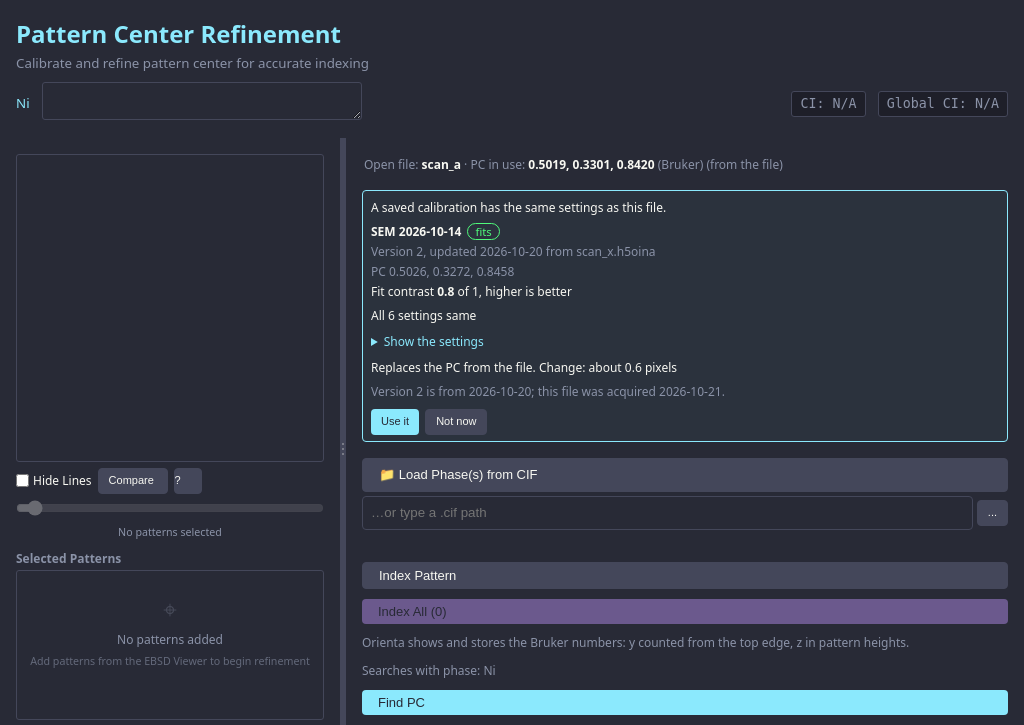
Test: the offer on load › A: "Put it back" after the use asks, puts the previous PC back and the page follows
The width and height of the screenshot is (1024, 725).
Click the button "Use it" at (395, 422), box [371,409,419,435]
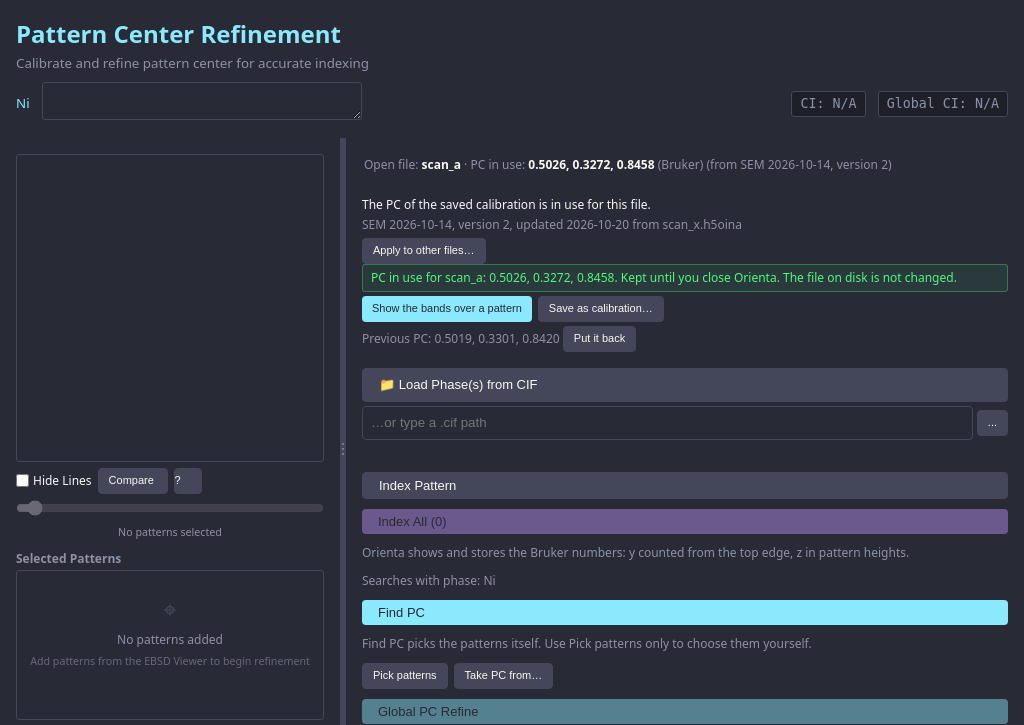
Click the button "Put it back" at (600, 339), box [563,326,636,352]
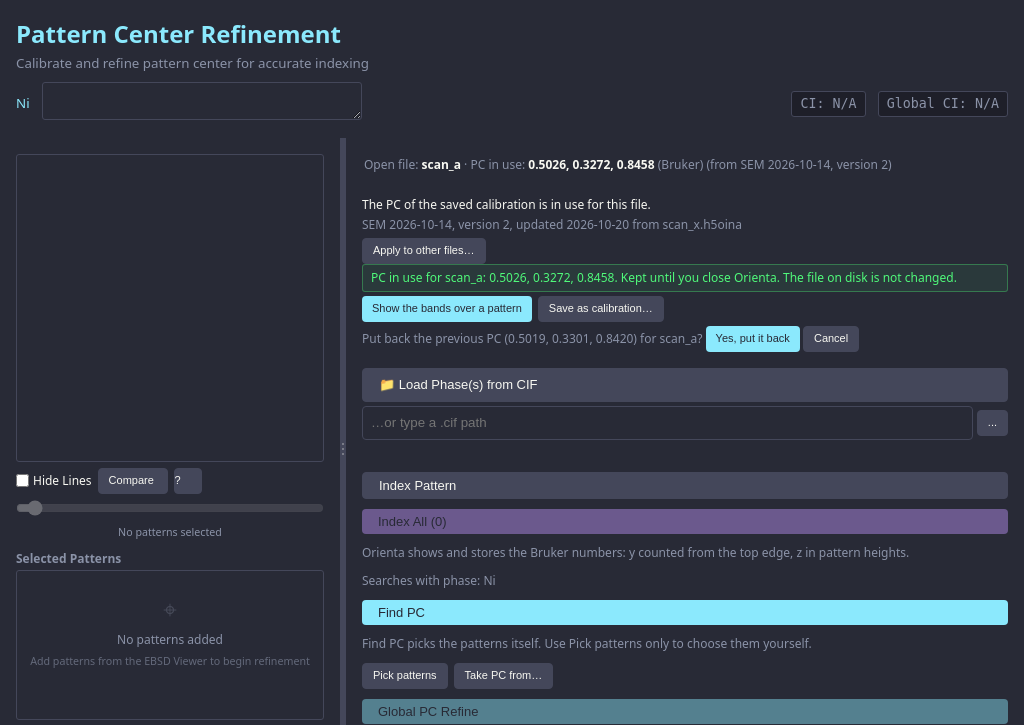
Click the button "Yes, put it back" at (753, 339), box [706,326,800,352]
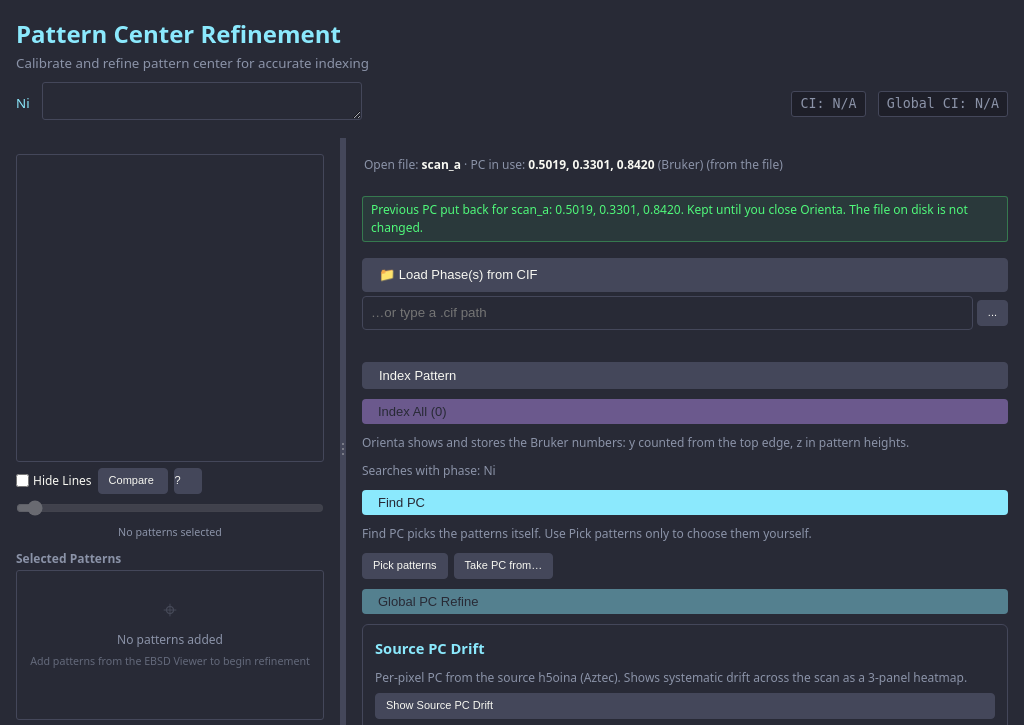
Expected: the element with test id "pc-undo-done" is shown, [362,196,1008,242]
Expected: the element with test id "pc-undo-done" shows "Previous PC put back for scan_a: 0.5019, 0.3301, 0.8420. Kept until you close Orienta. The file on disk is not changed.", [371,201,968,236]
Expected: the text with test id "pc-file-head-pc" reads "0.5019, 0.3301, 0.8420", [528,156,655,173]
